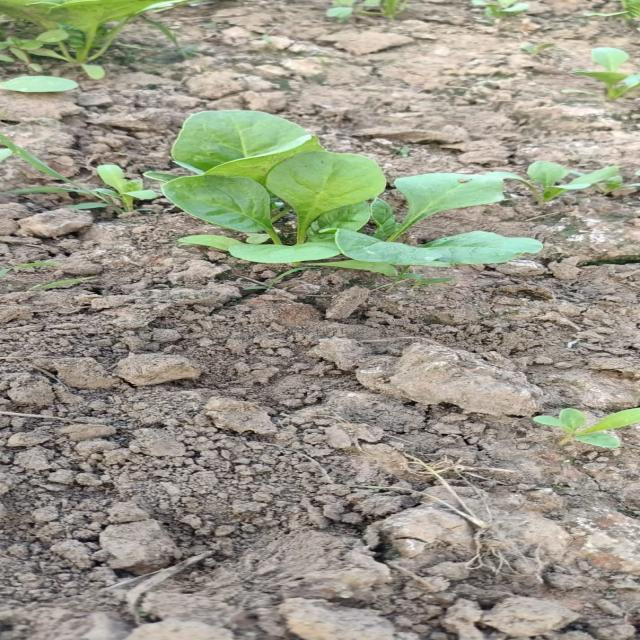plant: (144, 110, 540, 274)
